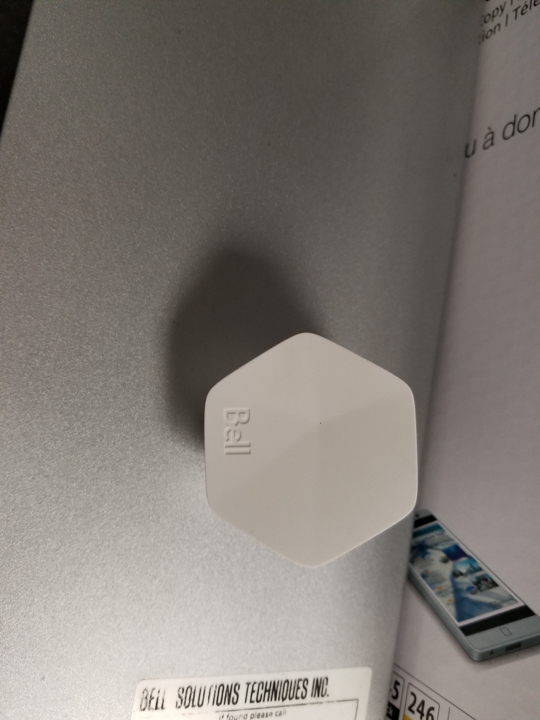pod: (195, 326, 425, 577)
